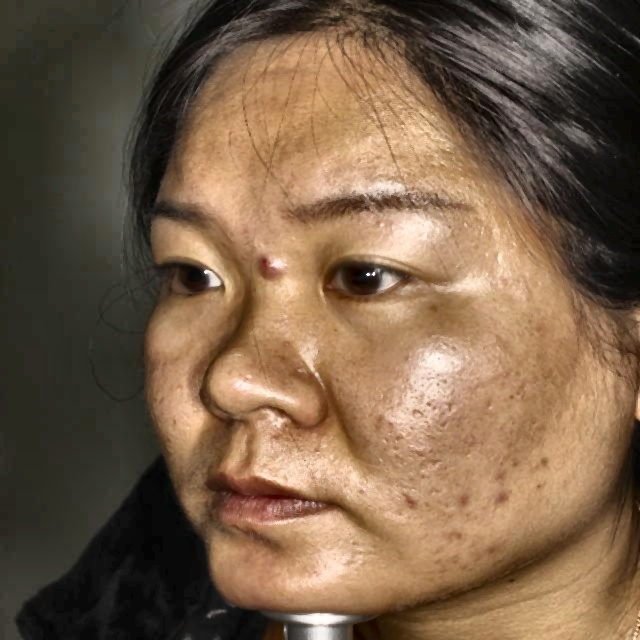pustule: (252, 252, 286, 286), (479, 537, 506, 566), (395, 488, 421, 514), (489, 489, 520, 509), (446, 485, 468, 512), (438, 520, 464, 542), (497, 459, 512, 489)
